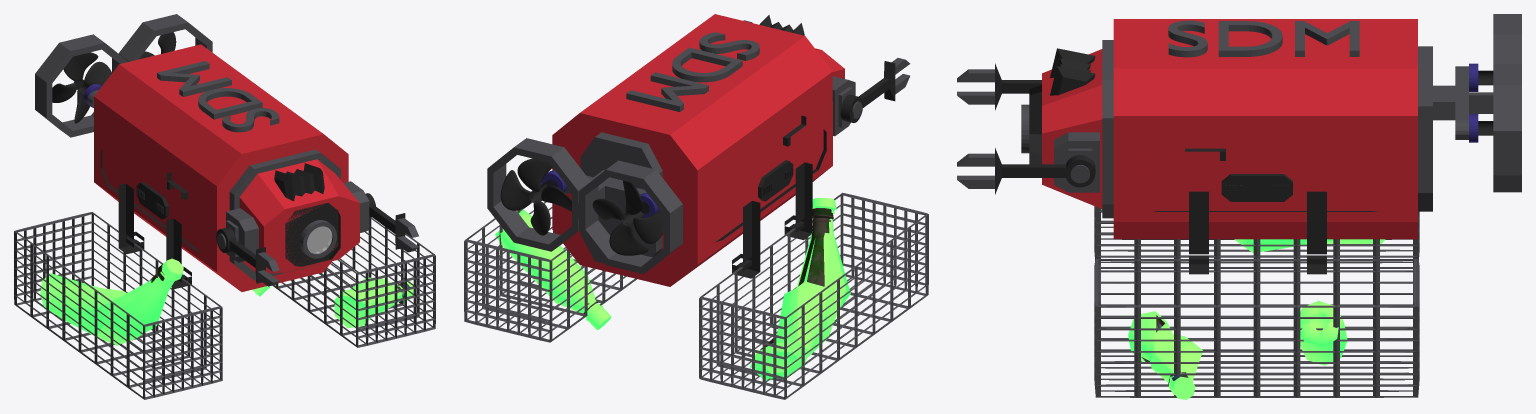
File: collector_manual_with_bottle.glb
The picture shows the model from 3 angles, left to right: view 1: azimuth 30°, elevation 25°; view 2: azimuth 150°, elevation 25°; view 3: azimuth 270°, elevation 25°; orthographic projection. The views are drawn at different scales.
Visible parts, largest first — view 1: main_body, Plastic_Bottle_01_GEO.006, camera_lens; view 2: main_body, Plastic_Bottle_01_GEO.006, Plastic_Bottle_01_GEO.004; view 3: main_body, Plastic_Bottle_01_GEO.006.
Part boxes in pixels (x1,y1,x2,y2): main_body: (14,14,435,399); Plastic_Bottle_01_GEO.006: (40,258,413,345); camera_lens: (307,226,332,253); main_body: (464,14,928,399); Plastic_Bottle_01_GEO.006: (495,198,850,380); Plastic_Bottle_01_GEO.004: (583,208,833,349); main_body: (957,14,1521,397); Plastic_Bottle_01_GEO.006: (1128,239,1385,399).
Bounding box in the file's own units: 4.25 × 3.13 × 5.53.
Materials: 4 (4 with a texture image).
